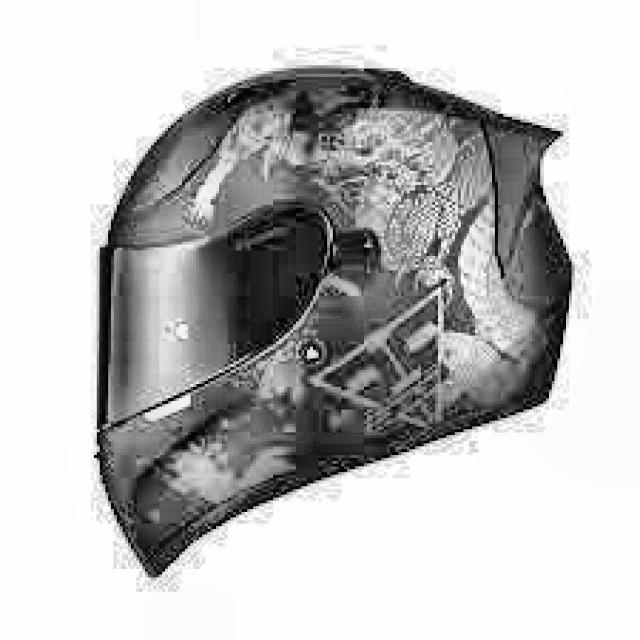Helmet: (73, 60, 583, 601)
